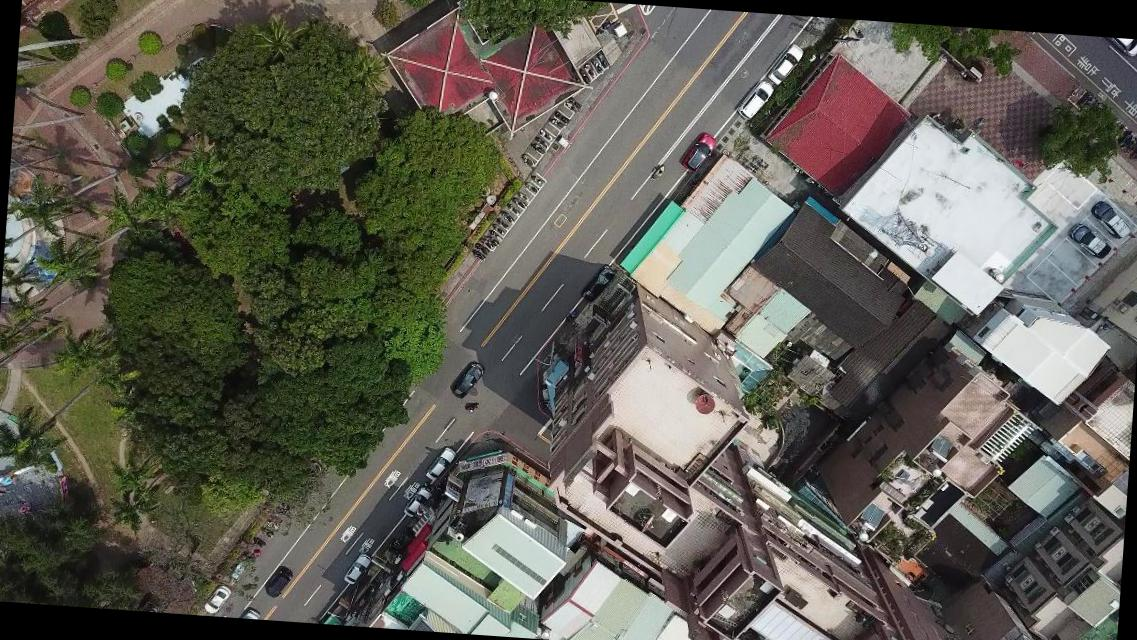vehicle: (1088, 200, 1132, 240), (766, 42, 804, 88), (1066, 224, 1112, 262), (734, 80, 774, 122), (579, 262, 617, 305), (682, 130, 717, 173), (448, 360, 484, 400), (424, 446, 456, 482), (263, 564, 292, 600), (343, 552, 372, 587), (403, 485, 432, 519), (203, 581, 231, 615), (1102, 36, 1136, 60), (240, 608, 262, 618)
